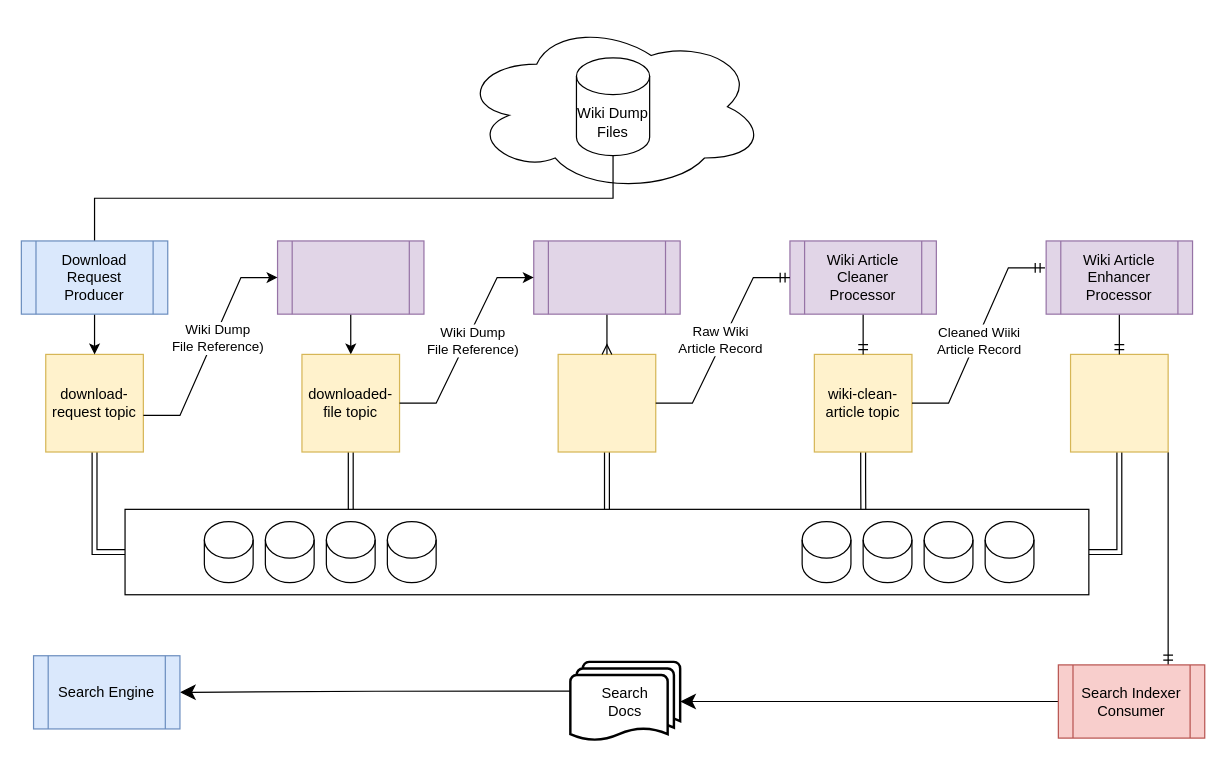
Some shapes in this 1226 by 764 pixel diagram are drawn without their labels. The box of each missing label's shape, as (x1, y1, x2, y2) in pixels:
Kafka: (124, 508, 1089, 595)
Wiki Article Processor: (533, 240, 680, 314)
Wiki Downloader Processor: (276, 240, 424, 314)
wiki-enhanced-article topic: (1069, 353, 1168, 452)
wiki-parsed-article topic: (557, 353, 656, 452)
